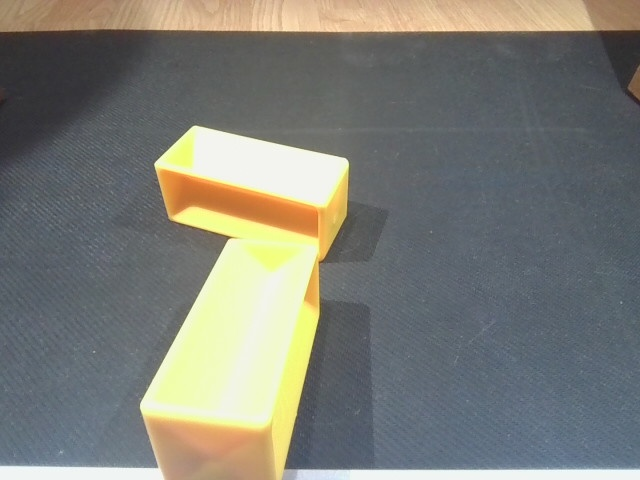YellowSample: (139, 233, 326, 480), (150, 122, 357, 264)
